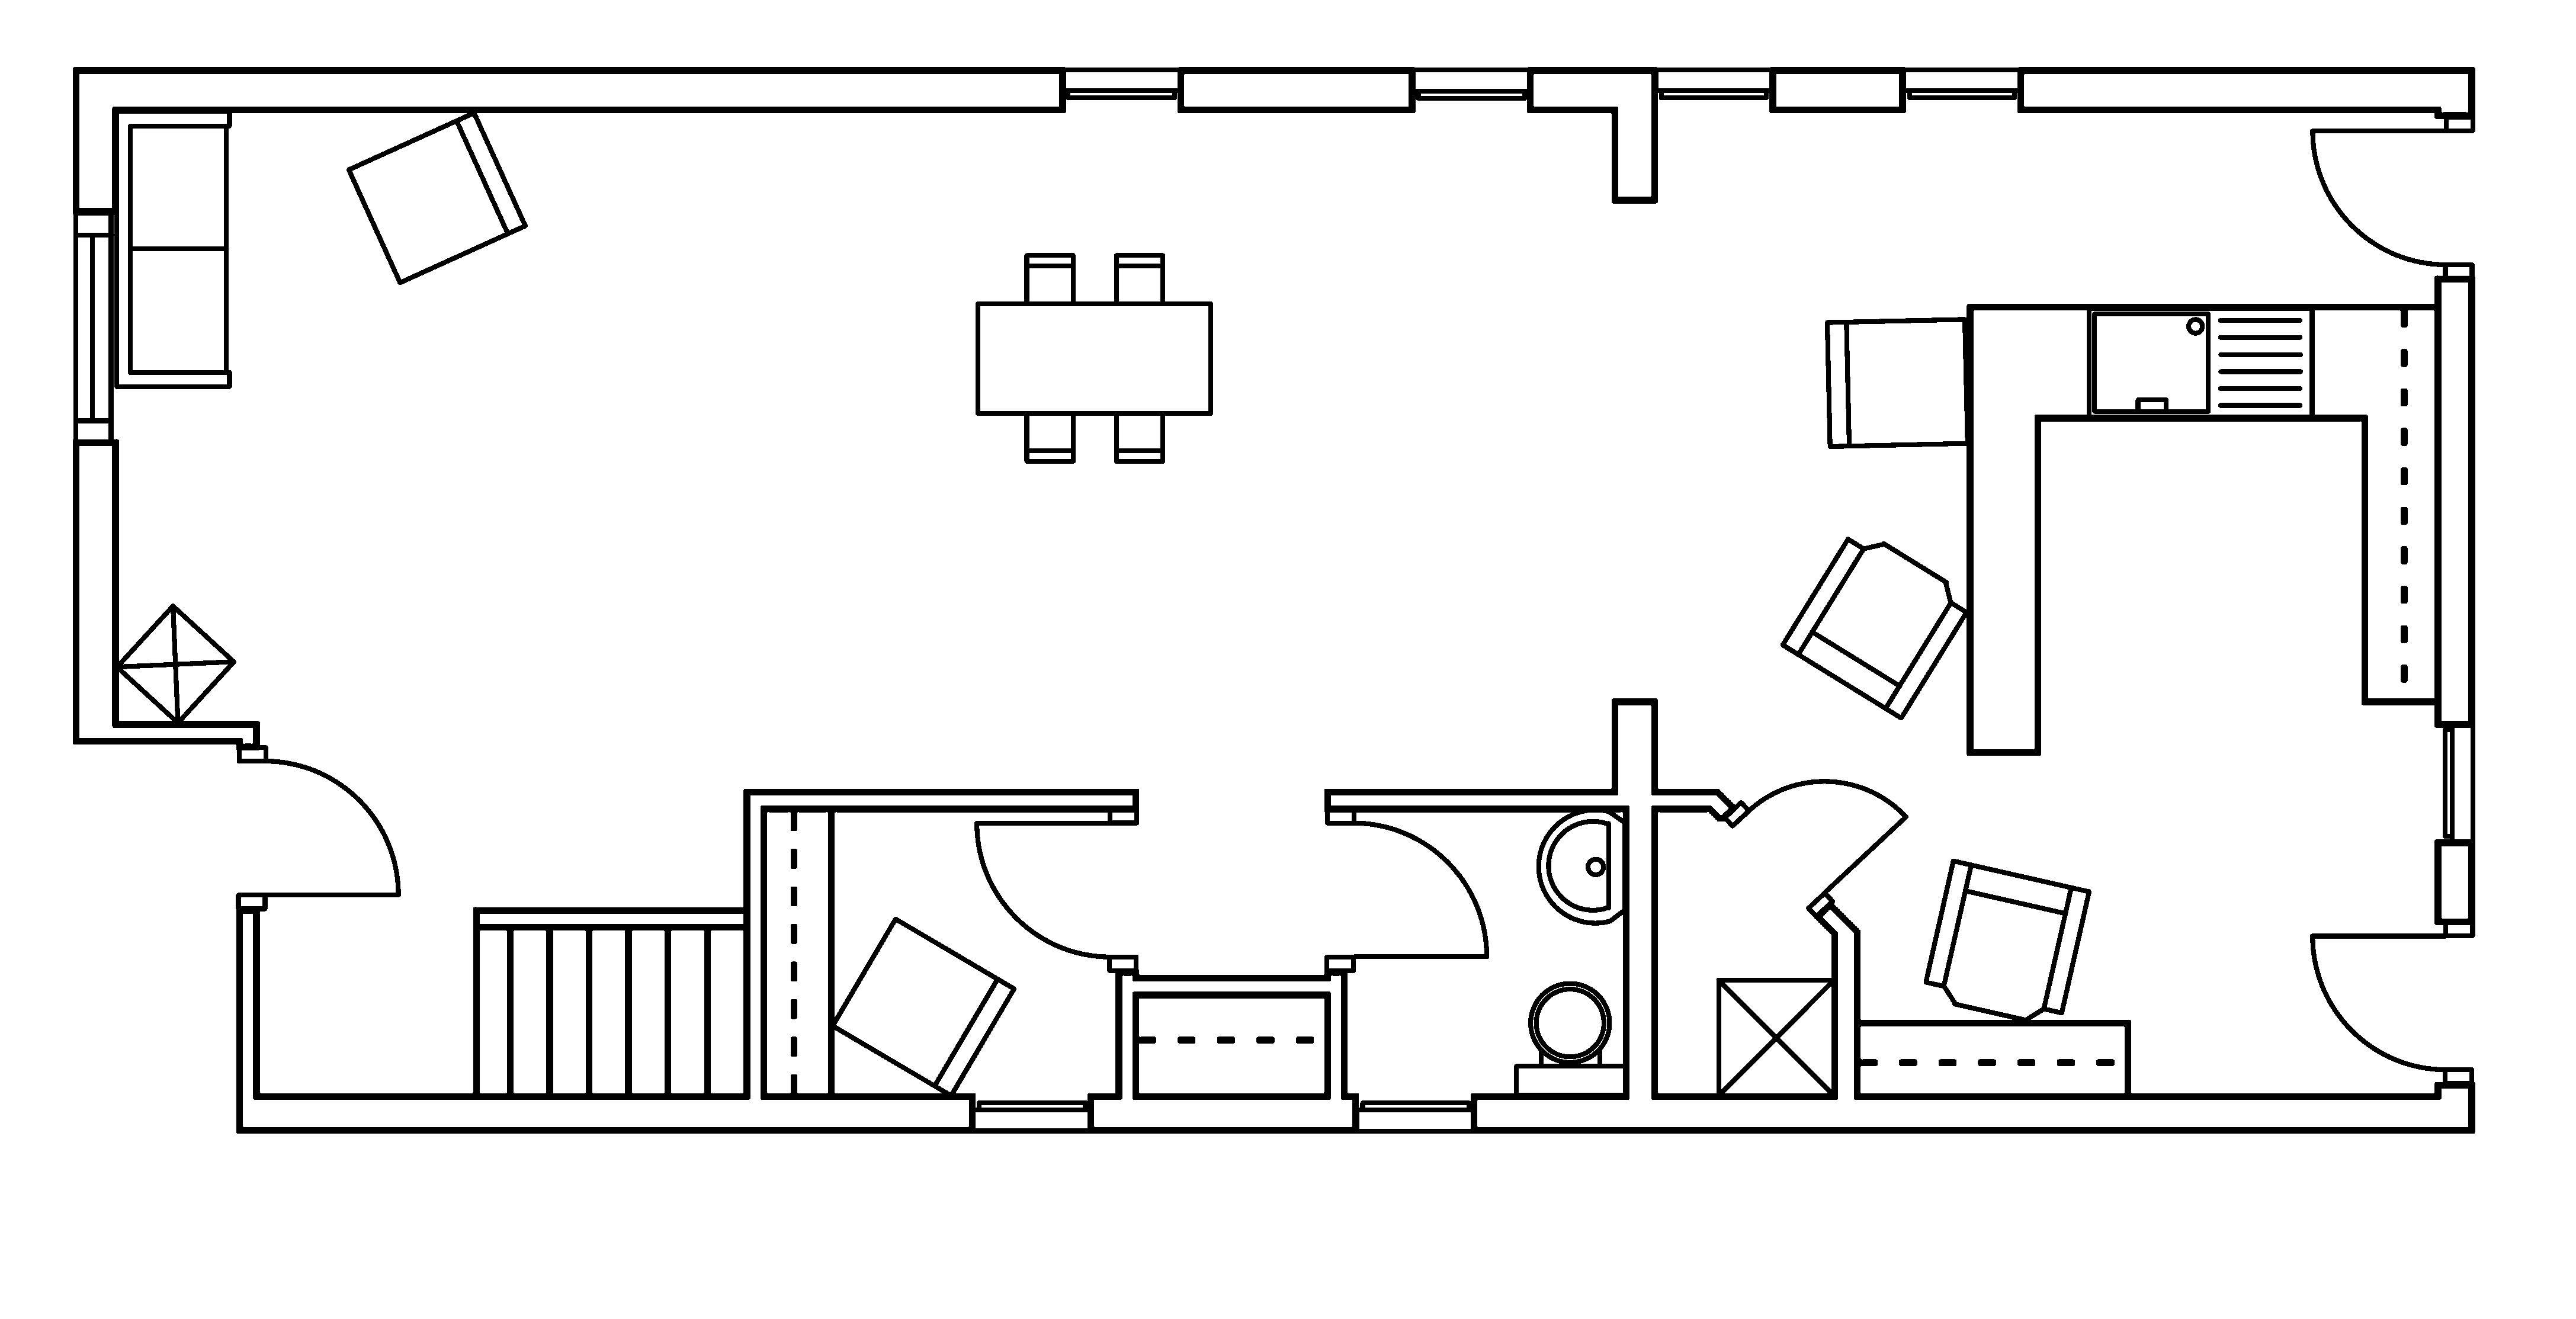armchair: (1779, 535, 1969, 720), (1922, 856, 2092, 1023)
coffee_table: (113, 602, 237, 725), (1715, 976, 1836, 1099)
dining_table: (974, 252, 1212, 464)
large_sink: (1513, 981, 1628, 1097)
large_sofa: (113, 108, 232, 389)
sink: (2085, 305, 2314, 421)
small_sink: (1535, 808, 1628, 925)
small_sofa: (829, 915, 1016, 1099), (345, 109, 528, 284), (1824, 316, 1971, 449)
